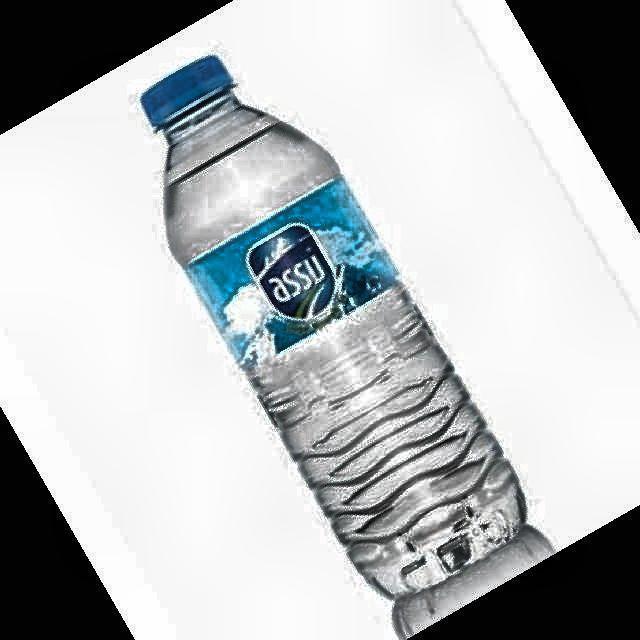plastic: (141, 56, 525, 598)
